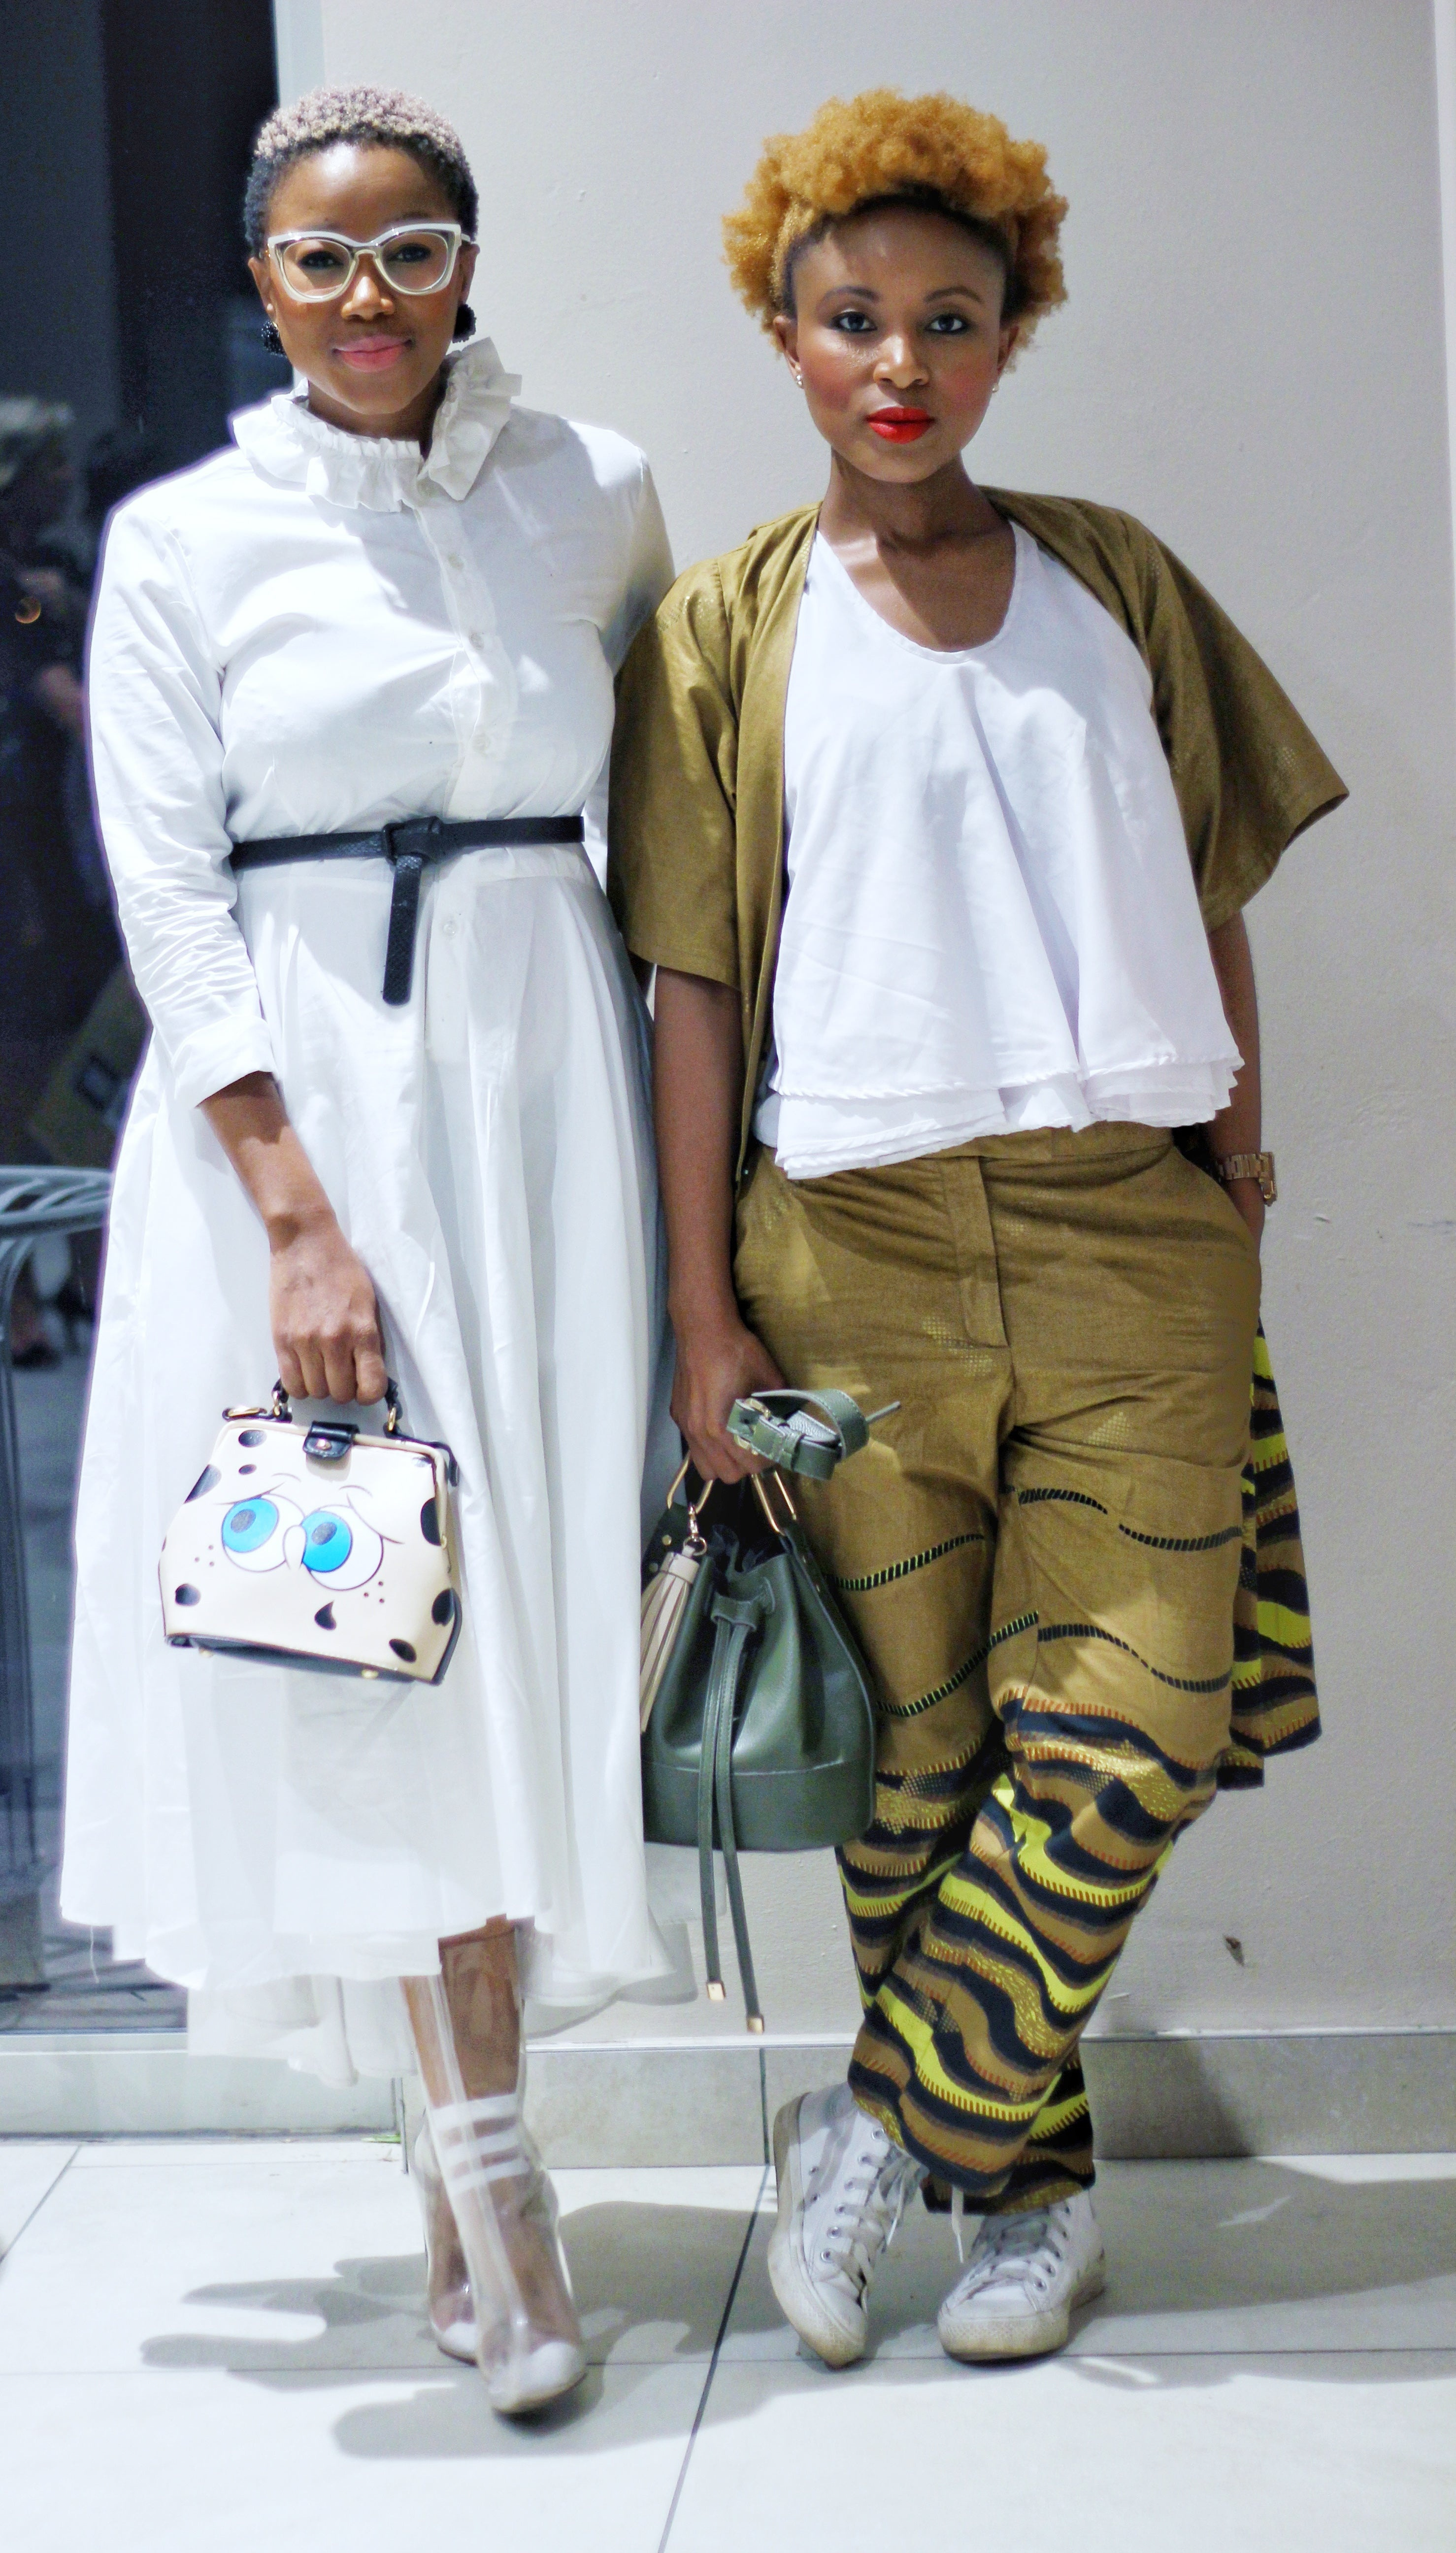mouth: (856, 403, 942, 444), (326, 335, 414, 372)
nose: (872, 363, 933, 389), (337, 296, 398, 321)
